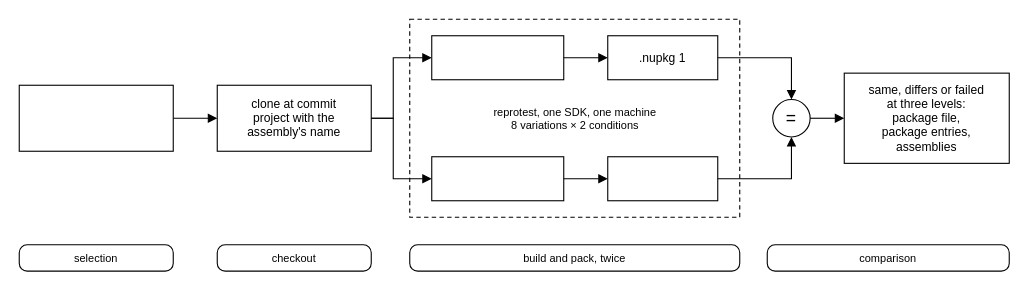
The diagram is 1029 pixels wide and 290 high, and some of its shapes have lost their labels. Here are the shapes that lost their labels. From the top down, the centre of each, then its label:
pixel 497 57: control build
pixel 95 117: shipped package .nuspec : repository, commit
pixel 497 178: varied build one variation
pixel 662 178: .nupkg 2
